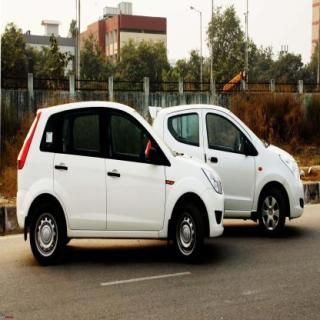Normal_vehicle: (17, 101, 224, 265)
